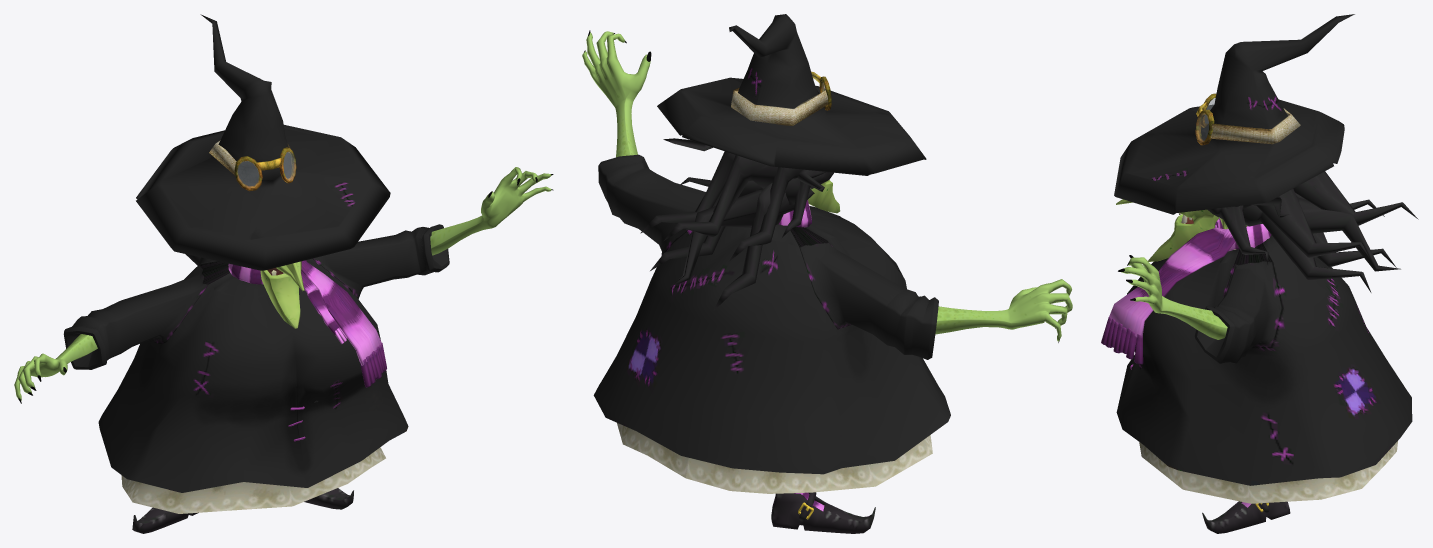
File: grunty.glb
The picture shows the model from 3 angles, left to right: view 1: azimuth 30°, elevation 25°; view 2: azimuth 150°, elevation 25°; view 3: azimuth 270°, elevation 25°; orthographic projection. The views are drawn at different scales.
Parts seen in each view (by area): view 1: mesh_110.013_aid_texture_banjox_shared_characters_grunty_mis (×3), mesh_110.013_Material_0, mesh_110.013_Material.004_0; view 2: mesh_110.013_aid_texture_banjox_shared_characters_grunty_mis (×2), mesh_110.013_Material.002_0, mesh_110.013_Leather_0; view 3: mesh_110.013_aid_texture_banjox_shared_characters_grunty_mis (×3), mesh_110.013_Material.002_0, mesh_110.013_Leather_0, mesh_110.013_Material_0.
Boxes of the visible parts, <box> form: mesh_110.013_aid_texture_banjox_shared_characters_grunty_mis (×3): <box>14,14,551,533</box>; mesh_110.013_Material_0: <box>234,147,296,191</box>; mesh_110.013_Material.004_0: <box>237,151,295,187</box>; mesh_110.013_aid_texture_banjox_shared_characters_grunty_mis (×2): <box>582,14,1072,533</box>; mesh_110.013_Material.002_0: <box>640,138,833,310</box>; mesh_110.013_Leather_0: <box>731,87,828,125</box>; mesh_110.013_aid_texture_banjox_shared_characters_grunty_mis (×3): <box>1101,14,1412,533</box>; mesh_110.013_Material.002_0: <box>1208,171,1418,292</box>; mesh_110.013_Leather_0: <box>1210,108,1300,144</box>; mesh_110.013_Material_0: <box>1195,93,1216,145</box>.
Size of the model in its own units: 0.7319 by 0.6672 by 0.3923.
11 materials, 9 textured.
